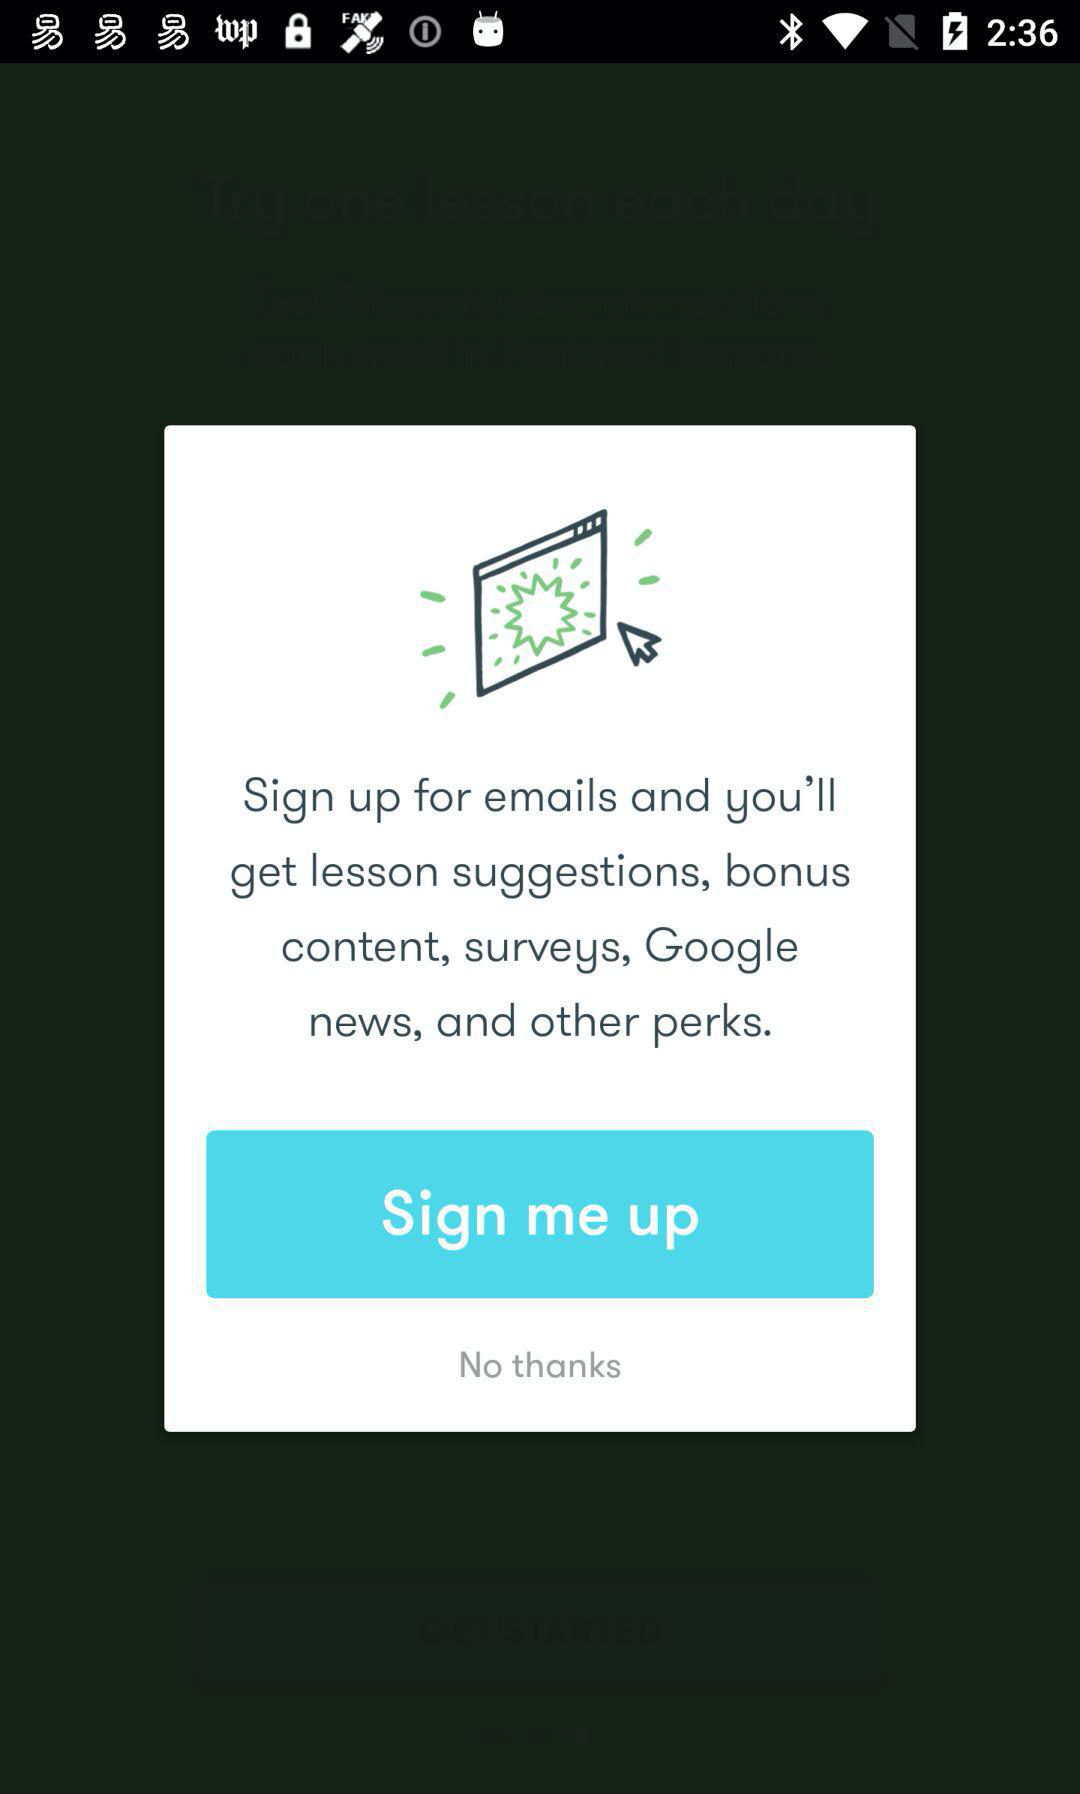Image: (419, 507, 664, 711)
Modal: (164, 425, 917, 1433)
Text: (231, 774, 849, 1049), (460, 1351, 623, 1379)
TextButton: (206, 1130, 875, 1299)
UpperTaskBar: (1, 1, 1080, 64)
